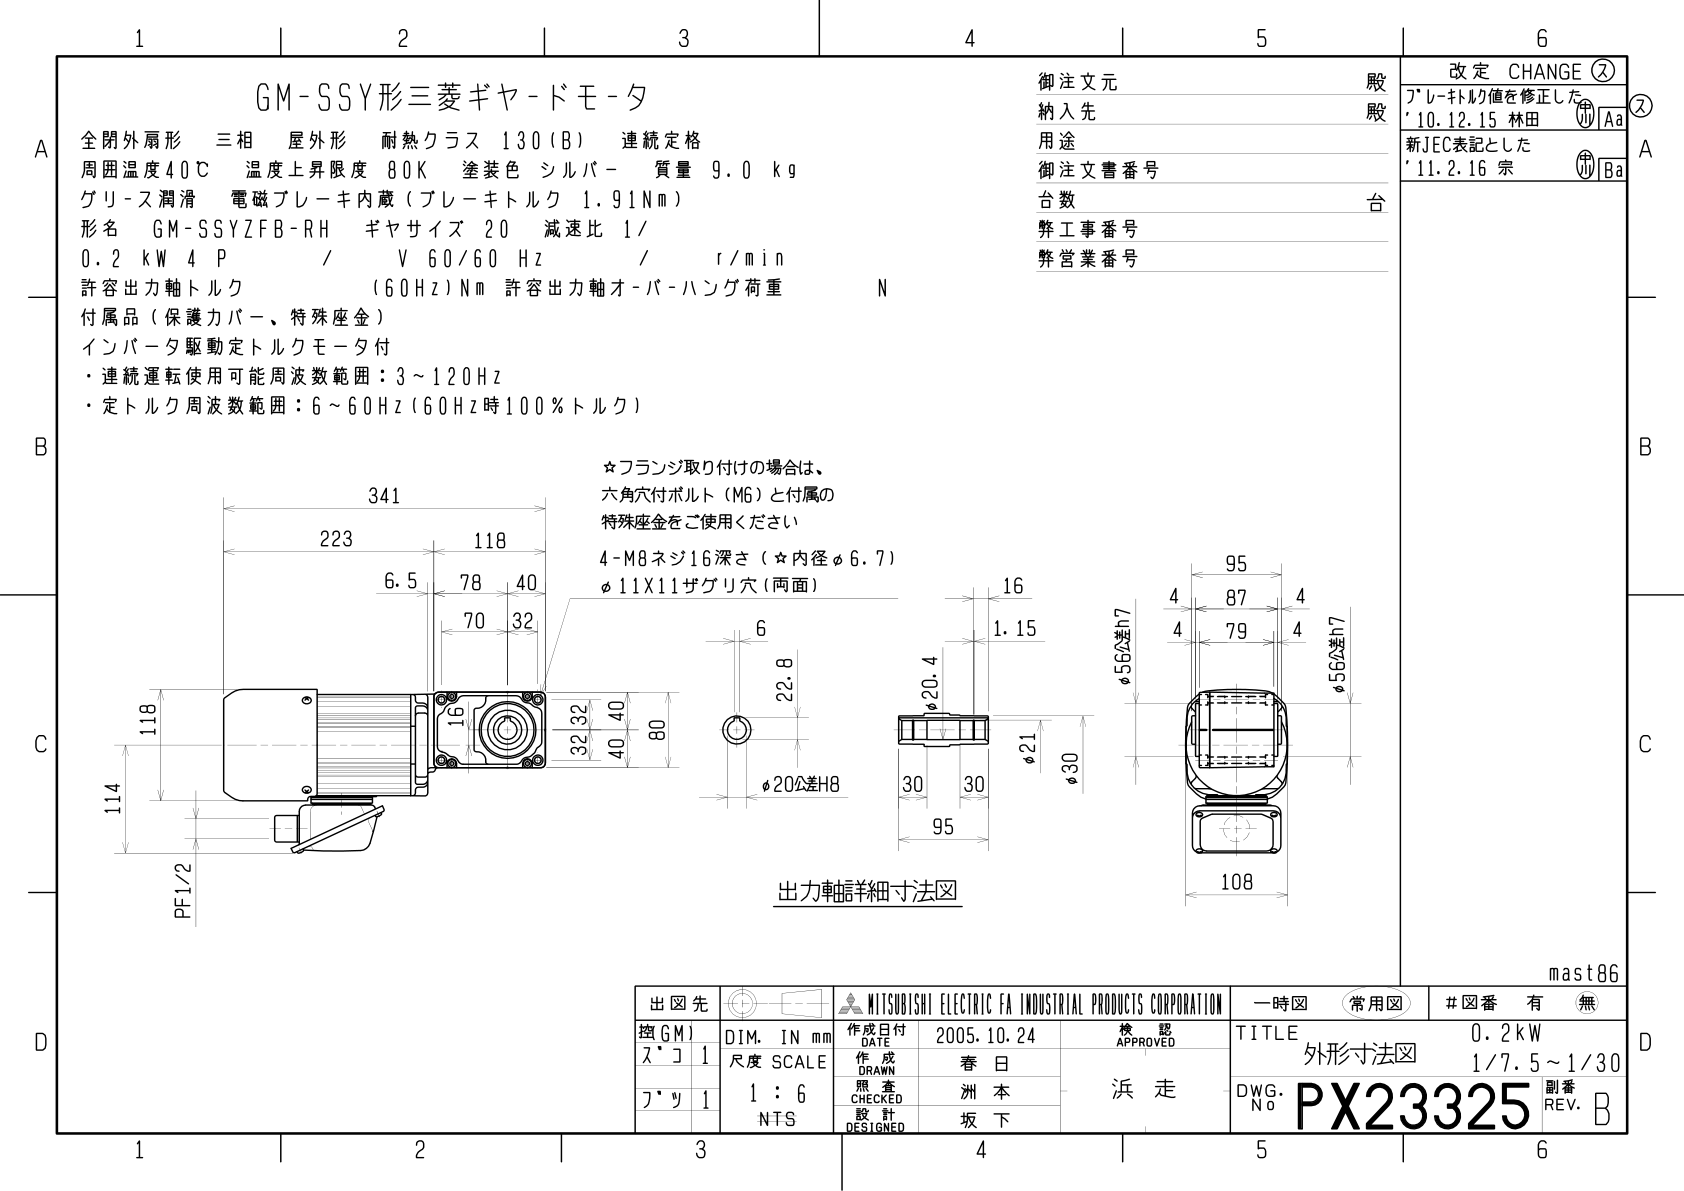GM_SSY_インバータ屋外_三相: (81, 452, 1381, 947)
